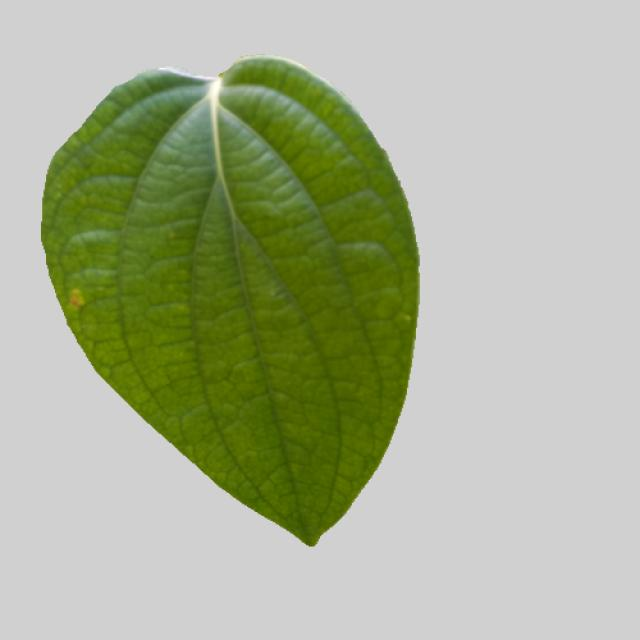healthy: (37, 53, 425, 551)
